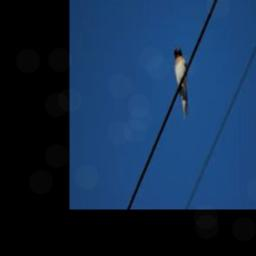Swallow: (173, 46, 189, 118)
